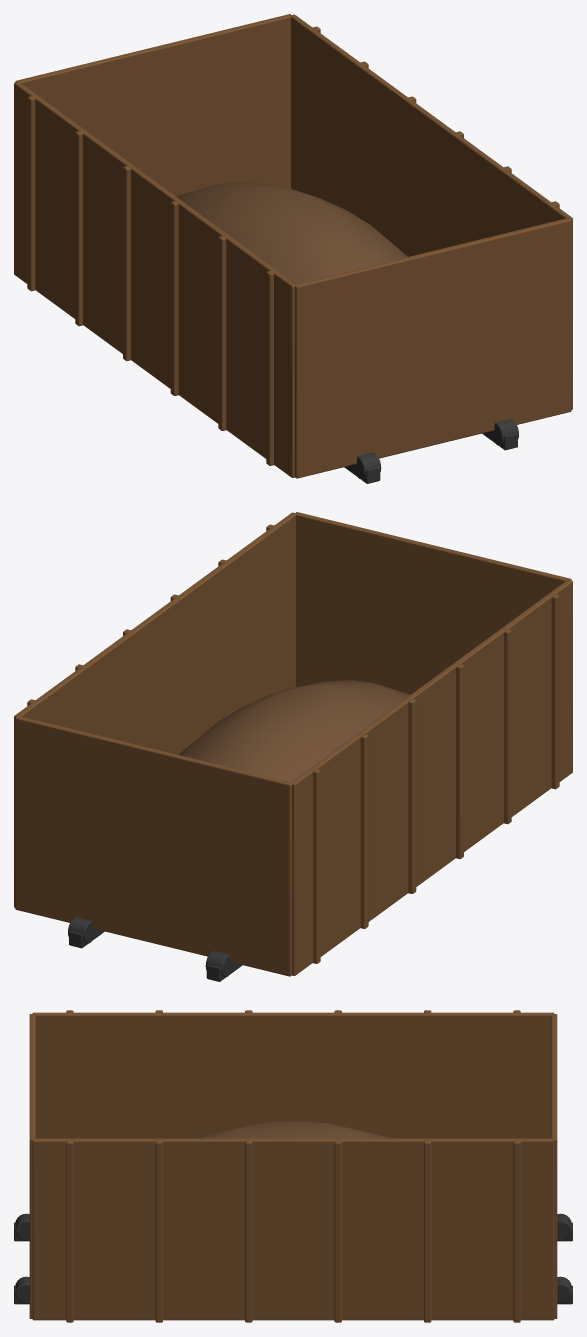
The model's file is bark_bin.glb.
3 views of the same model, one above another, from view 1: azimuth 30°, elevation 25°; view 2: azimuth 150°, elevation 25°; view 3: azimuth 270°, elevation 25° (orthographic). The views are drawn at different scales.
Parts seen in each view (by area): view 1: BIN_Body, BIN_HeapMesh; view 2: BIN_Body, BIN_HeapMesh; view 3: BIN_Body, BIN_HeapMesh.
Boxes of the visible parts, x1,y1,x2,y2 form: BIN_Body: (14,14,572,483); BIN_HeapMesh: (176,182,407,284); BIN_Body: (14,512,572,981); BIN_HeapMesh: (179,680,410,782); BIN_Body: (14,1010,572,1322); BIN_HeapMesh: (191,1121,395,1138).
Size of the model in its own units: 2.53 by 1.72 by 4.5.
